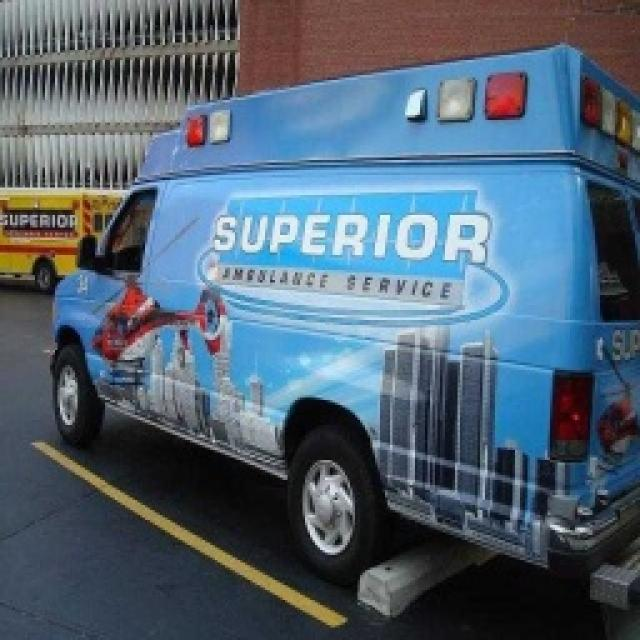emergency-vehicle: (60, 42, 640, 601)
